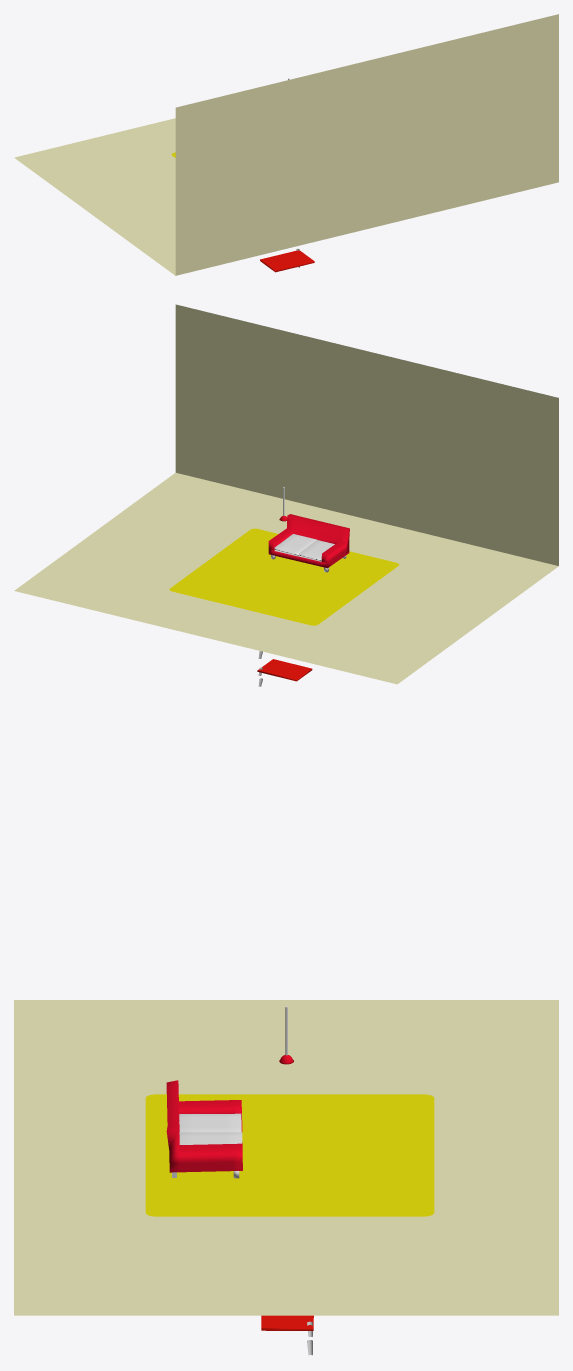
File: sofa.glb
The picture shows the model from 3 angles, top to bottom: view 1: azimuth 30°, elevation 25°; view 2: azimuth 150°, elevation 25°; view 3: azimuth 270°, elevation 25°; orthographic projection. The views are drawn at different scales.
Visible parts, largest first — view 1: Plane.006, Plane.007; view 2: Plane.006, Plane.005, Cube, Plane.007, Kubus; view 3: Plane.006, Plane.005, Cube, Kubus.001, Plane.007, Kubus.
Boxes of the visible parts, x1,y1,x2,y2 form: Plane.006: (14, 14, 558, 275); Plane.007: (260, 250, 314, 272); Plane.006: (14, 304, 558, 684); Plane.005: (169, 528, 399, 625); Cube: (268, 514, 349, 568); Plane.007: (257, 659, 312, 681); Kubus: (274, 534, 316, 556); Plane.006: (14, 1000, 558, 1315); Plane.005: (145, 1094, 434, 1216); Cube: (166, 1080, 242, 1172); Kubus.001: (179, 1113, 241, 1132); Plane.007: (261, 1315, 313, 1330); Kubus: (179, 1132, 242, 1144).
Bounding box in the file's own units: 42.23 × 29.08 × 30.82.
